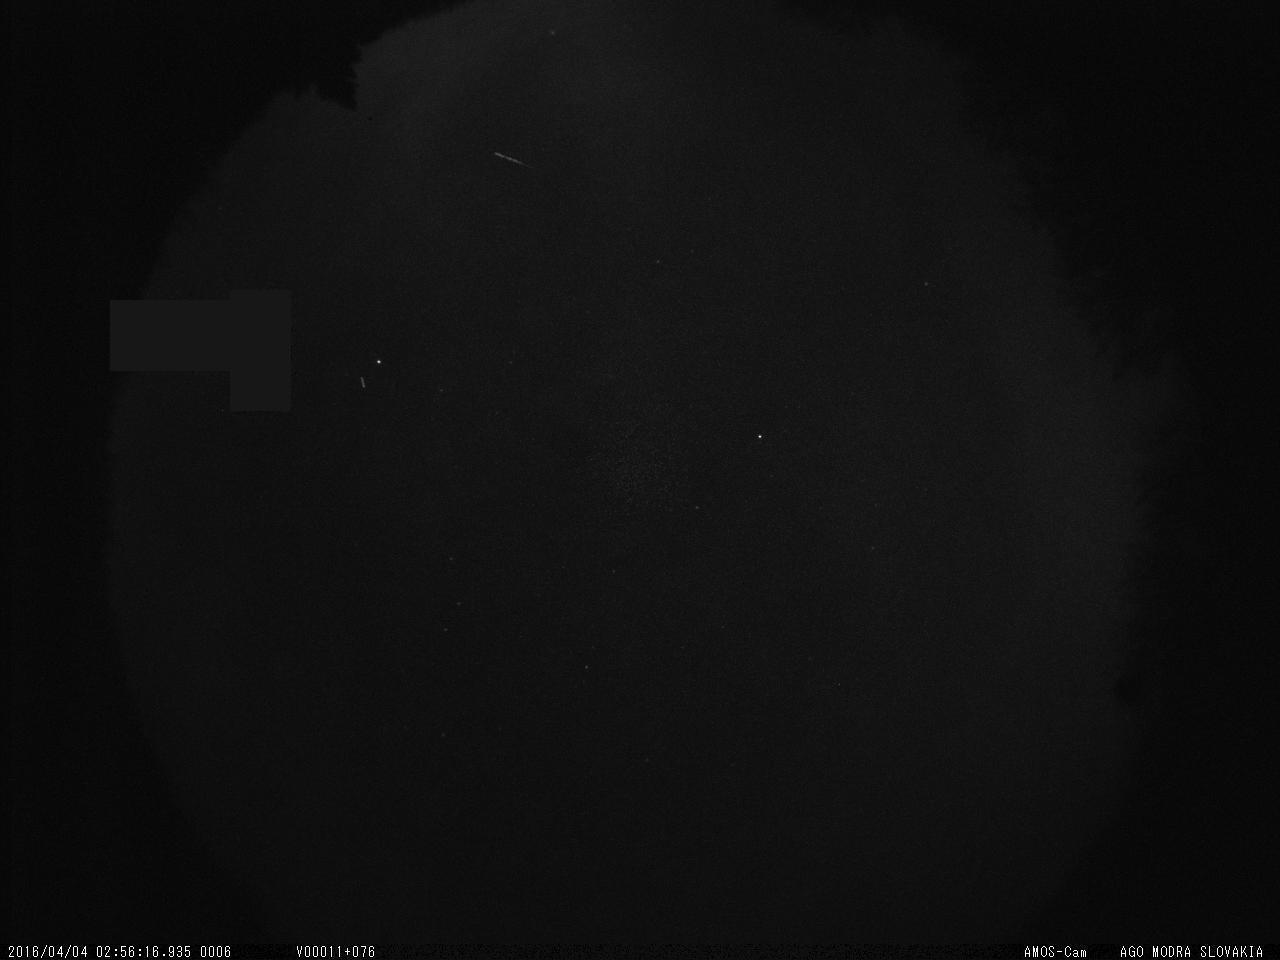meteor: (485, 147, 555, 182)
